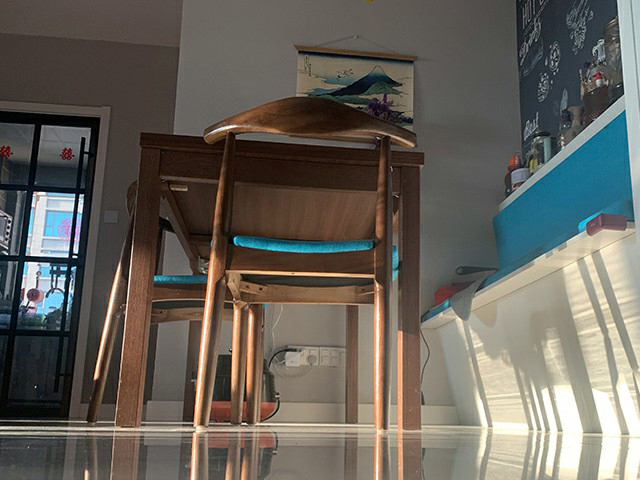stool: (192, 95, 419, 432), (86, 181, 266, 428)
table: (114, 131, 425, 433)
wire: (260, 346, 303, 422)
